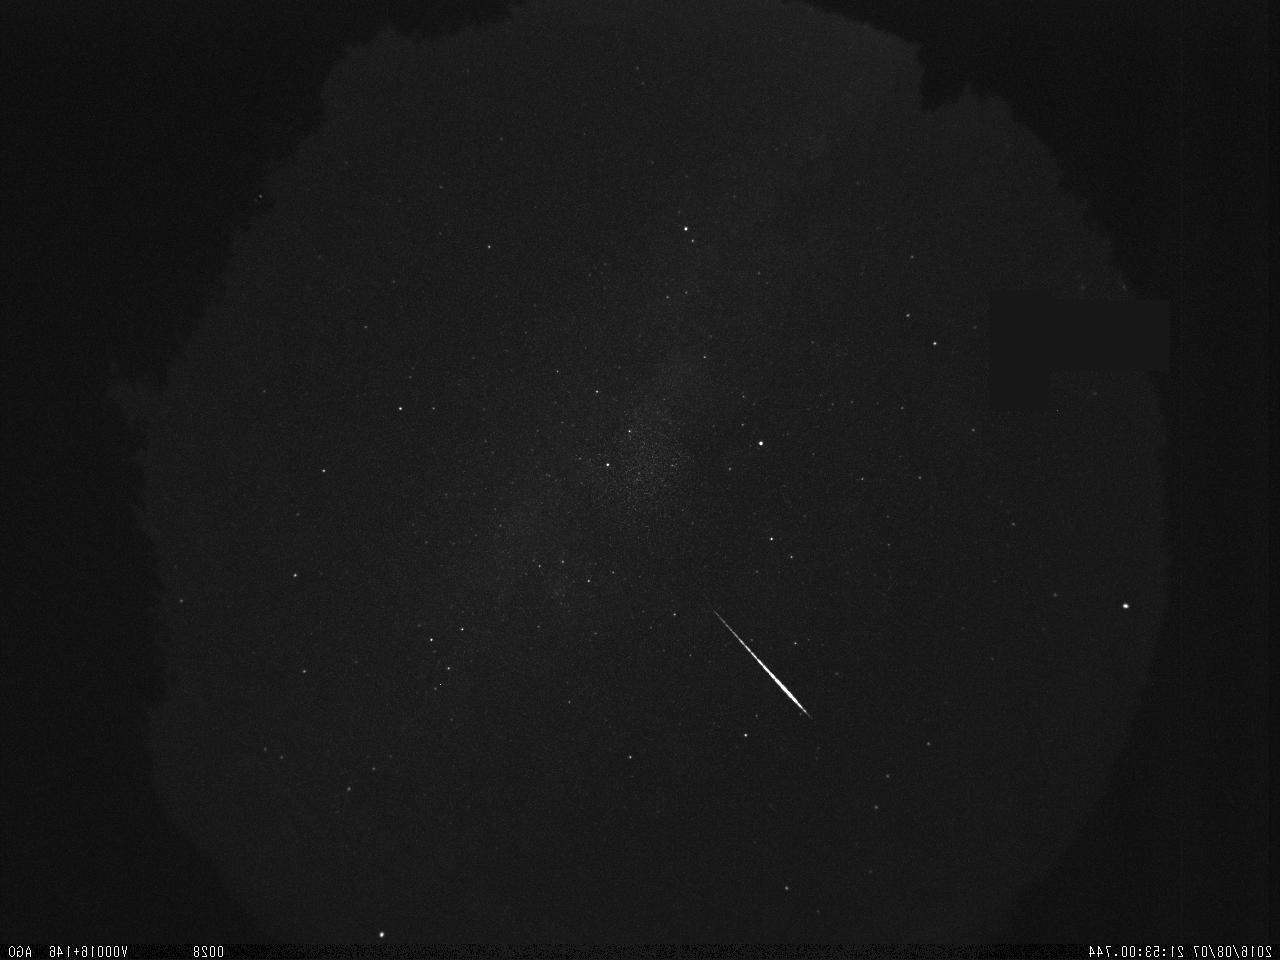meteor: (696, 598, 820, 727)
